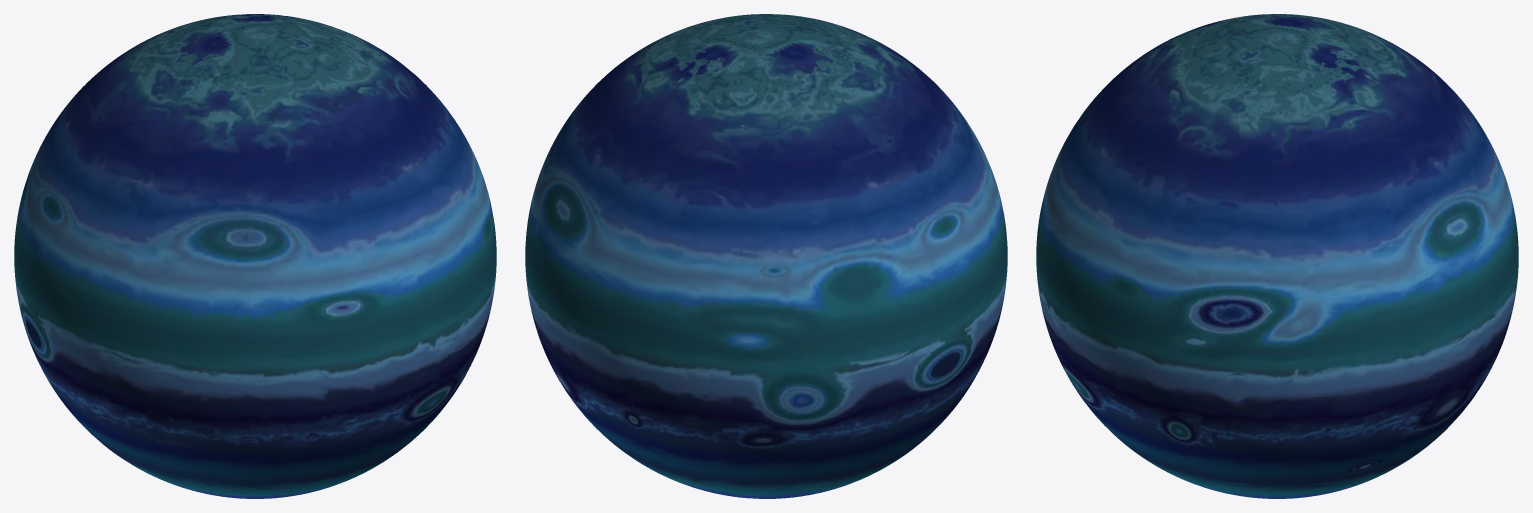
Rendered from bluePlanet.glb.
The picture shows the model from 3 angles, left to right: view 1: azimuth 30°, elevation 25°; view 2: azimuth 150°, elevation 25°; view 3: azimuth 270°, elevation 25°; orthographic projection.
Parts seen in each view (by area): view 1: Blue Giant; view 2: Blue Giant; view 3: Blue Giant.
Boxes of the visible parts, x1,y1,x2,y2 form: Blue Giant: (14, 14, 496, 498); Blue Giant: (525, 14, 1007, 498); Blue Giant: (1036, 14, 1518, 498).
Size of the model in its own units: 1.97 by 2 by 1.97.
Materials: 1 (1 with a texture image).
